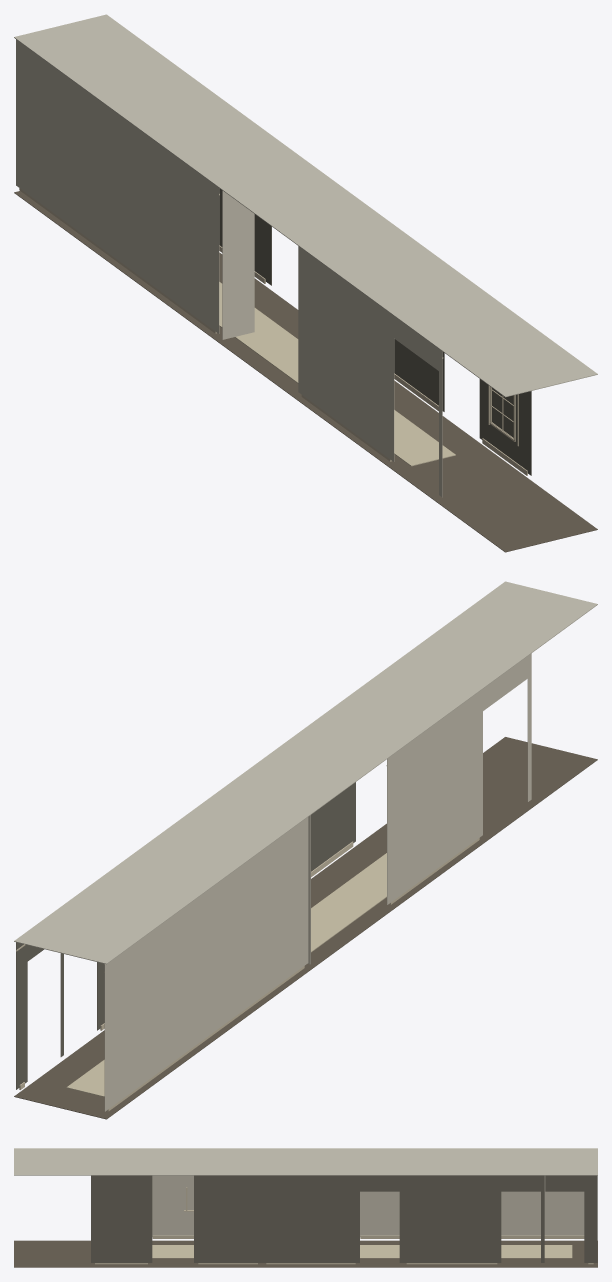
Rendered from corridor-3.glb.
3 views of the same model, one above another, from view 1: azimuth 30°, elevation 25°; view 2: azimuth 150°, elevation 25°; view 3: azimuth 270°, elevation 25° (orthographic). The views are drawn at different scales.
Parts seen in each view (by area): view 1: DESIGN | Entrance coordinated ceiling, DESIGN | Entrance paired wall finish, DESIGN | Entrance floor finish, DESIGN | Entrance paired wall finish.003, DESIGN | Arch approach finish, DESIGN | Entrance quiet runner, DESIGN | Entrance paired wall finish.013, DESIGN | Entrance paired wall finish.012, DESIGN | Entrance paired wall finish.006, DESIGN | Entrance paired wall finish.002; view 2: DESIGN | Entrance coordinated ceiling, DESIGN | Entrance paired wall finish, DESIGN | Entrance floor finish, DESIGN | Entrance paired wall finish.003, DESIGN | Entrance quiet runner, DESIGN | Entrance paired wall finish.012, DESIGN | Entrance paired wall finish.005, DESIGN | Entrance paired wall finish.002, DESIGN | Entrance paired wall finish.001; view 3: DESIGN | Entrance coordinated ceiling, DESIGN | Entrance paired wall finish.006, DESIGN | Entrance paired wall finish.009, DESIGN | Entrance floor finish, DESIGN | Entrance paired wall finish.012, DESIGN | Entrance paired wall finish, DESIGN | Entrance paired wall finish.013, DESIGN | Entrance paired wall finish.003, DESIGN | Entrance quiet runner, DESIGN | Entrance paired wall finish.005, DESIGN | Entrance paired wall finish.007, DESIGN | Entrance paired wall finish.010 (+5 smaller).
Boxes of the visible parts, x1,y1,x2,y2 form: DESIGN | Entrance coordinated ceiling: (14,14,597,397); DESIGN | Entrance paired wall finish: (16,39,219,333); DESIGN | Entrance floor finish: (14,191,597,552); DESIGN | Entrance paired wall finish.003: (298,246,394,461); DESIGN | Arch approach finish: (222,190,254,339); DESIGN | Entrance quiet runner: (219,282,455,466); DESIGN | Entrance paired wall finish.013: (479,379,531,475); DESIGN | Entrance paired wall finish.012: (394,339,444,411); DESIGN | Entrance paired wall finish.006: (219,188,268,283); DESIGN | Entrance paired wall finish.002: (394,316,438,370); DESIGN | Entrance coordinated ceiling: (14,581,597,964); DESIGN | Entrance paired wall finish: (104,817,308,1111); DESIGN | Entrance floor finish: (14,737,597,1119); DESIGN | Entrance paired wall finish.003: (387,689,482,904); DESIGN | Entrance quiet runner: (66,853,386,1096); DESIGN | Entrance paired wall finish.012: (311,782,355,871); DESIGN | Entrance paired wall finish.005: (16,942,27,1089); DESIGN | Entrance paired wall finish.002: (483,656,527,710); DESIGN | Entrance paired wall finish.001: (527,653,531,801); DESIGN | Entrance coordinated ceiling: (14,1148,597,1175); DESIGN | Entrance paired wall finish.006: (402,1175,501,1262); DESIGN | Entrance paired wall finish.009: (262,1175,359,1262); DESIGN | Entrance floor finish: (14,1240,597,1267); DESIGN | Entrance paired wall finish.012: (194,1175,262,1262); DESIGN | Entrance paired wall finish: (360,1176,584,1236); DESIGN | Entrance paired wall finish.013: (91,1175,152,1262); DESIGN | Entrance paired wall finish.003: (152,1175,193,1236); DESIGN | Entrance quiet runner: (152,1245,572,1258); DESIGN | Entrance paired wall finish.005: (584,1175,597,1262); DESIGN | Entrance paired wall finish.007: (501,1175,540,1191); DESIGN | Entrance paired wall finish.010: (360,1175,399,1191).
Size of the model in its own units: 1.7 by 2.73 by 15.61.
